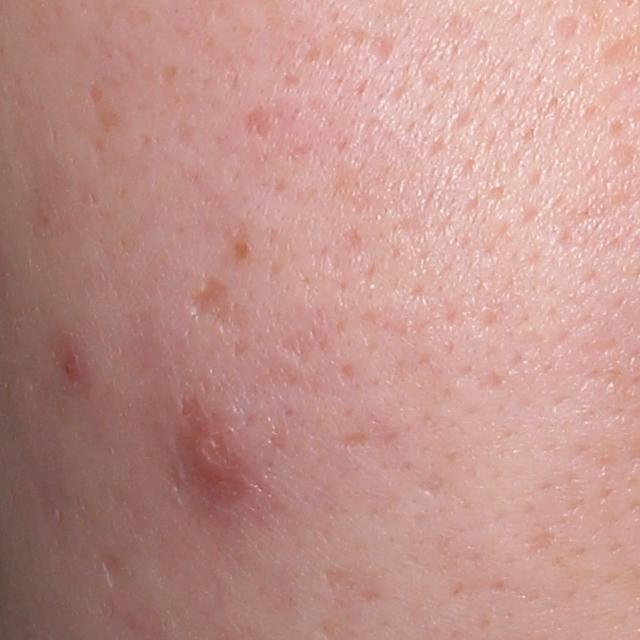atrophic_scar: (190, 280, 238, 330), (599, 41, 637, 69), (238, 107, 273, 137), (283, 331, 314, 364), (417, 472, 442, 499), (529, 532, 555, 556), (104, 556, 119, 586), (340, 364, 353, 385)
papule: (184, 398, 249, 509), (62, 352, 89, 392)
